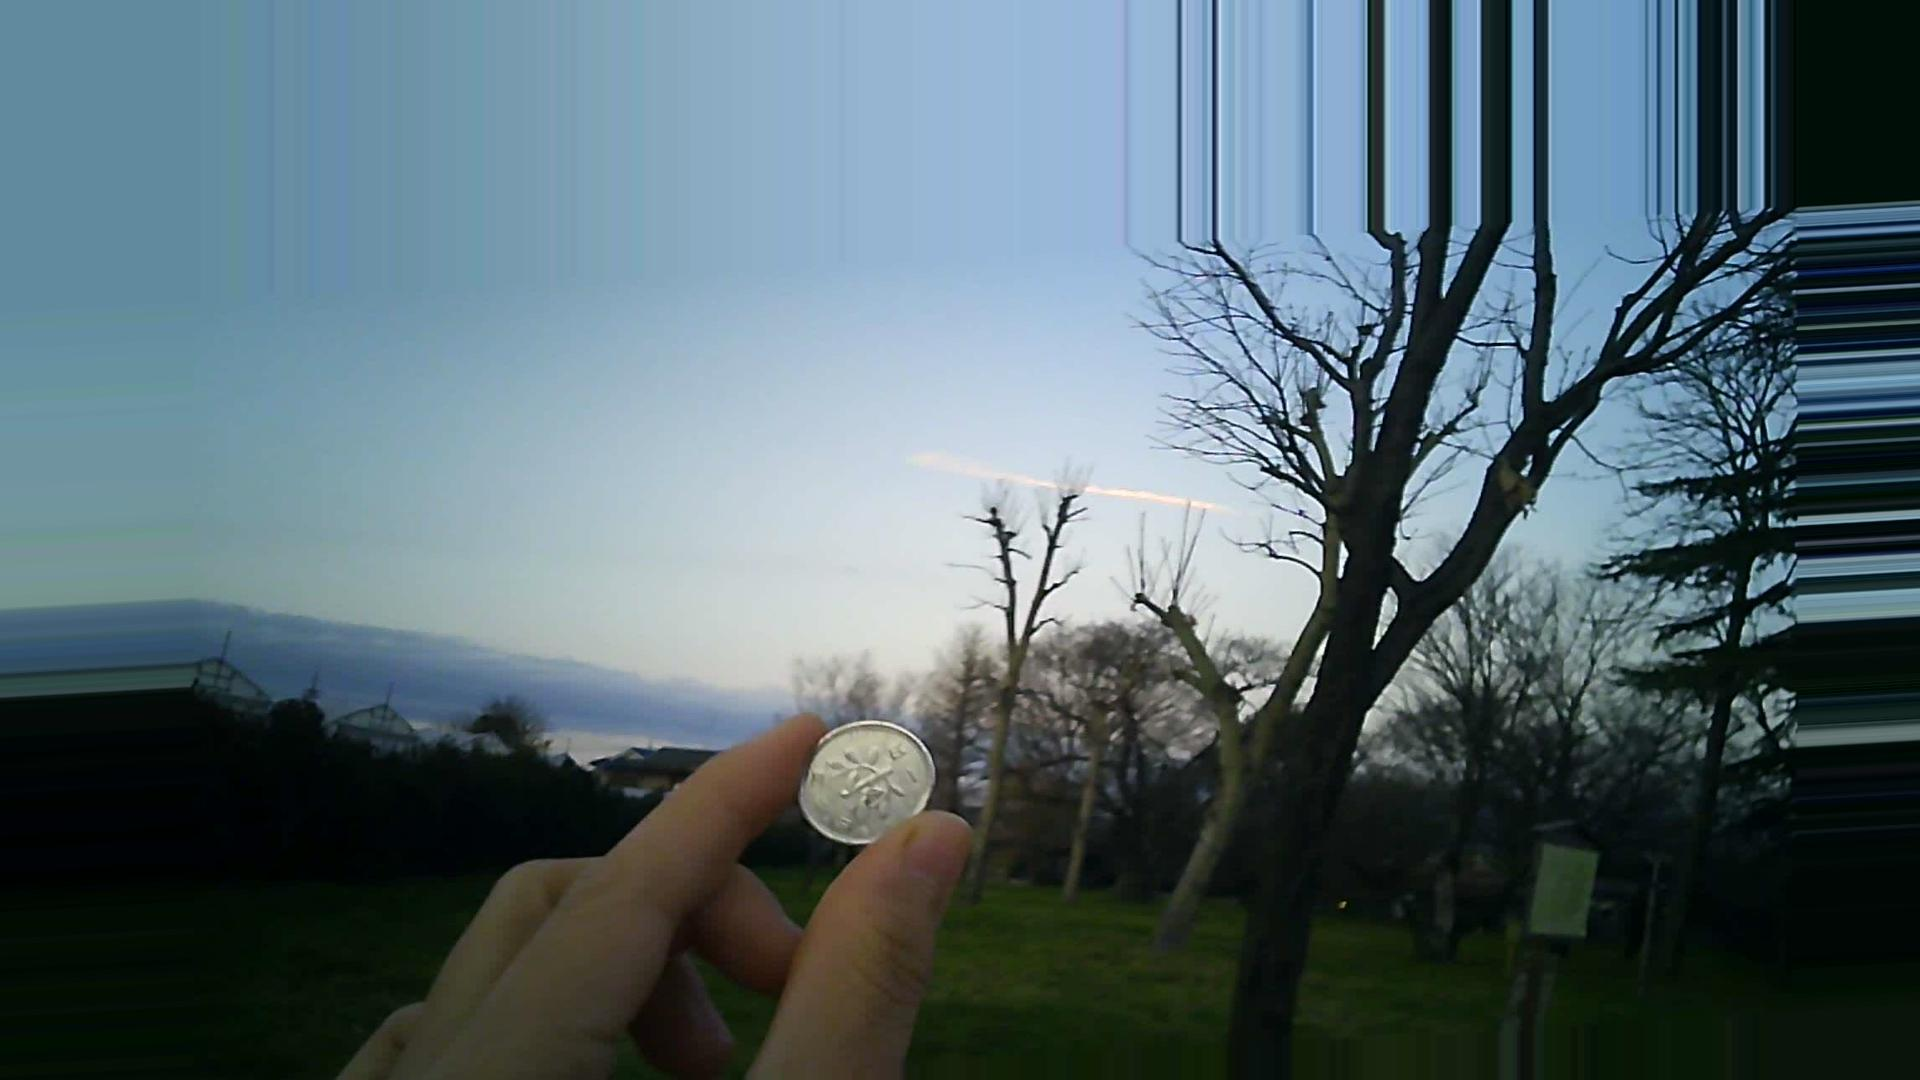1 Yen: (767, 713, 943, 853)
